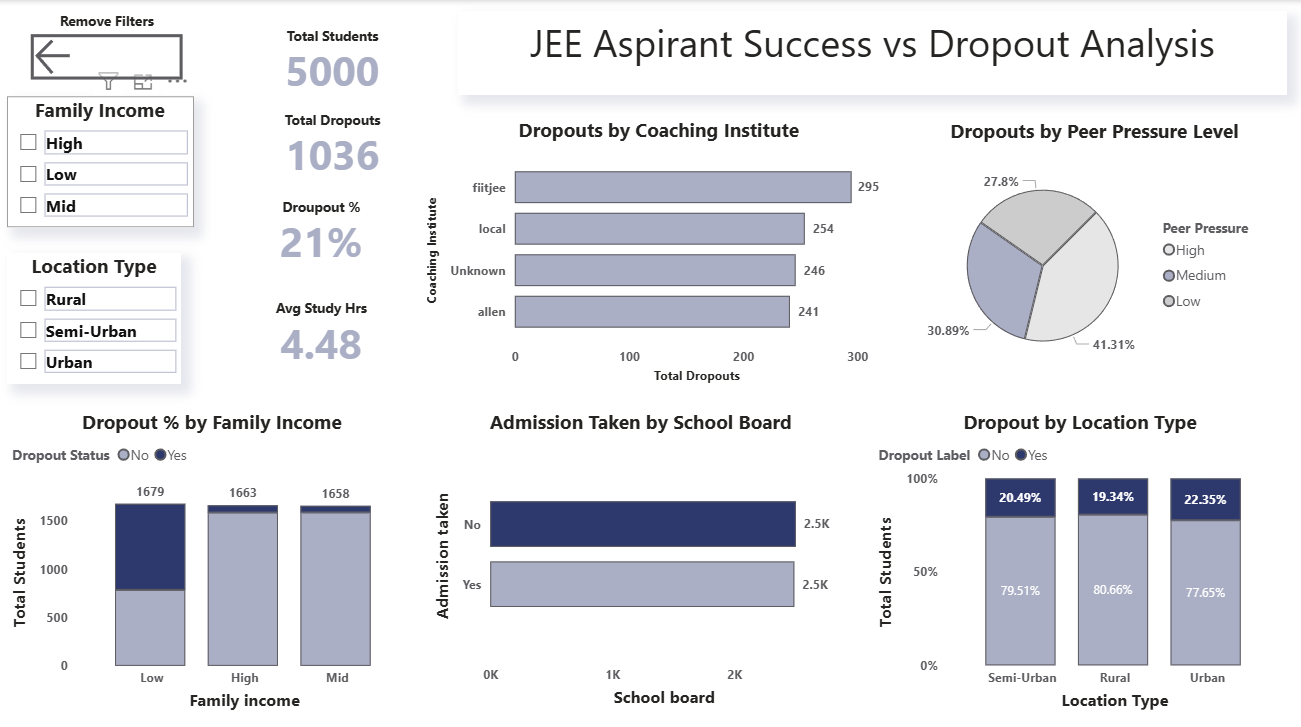

This screenshot's page, from the dashboard's own definition file:
{"tool":"powerbi","page":{"name":"Page 1","canvas":[1280,720],"ordinal":0},"visuals":[{"type":"card","title":"Total Students","fields":{"Values":["Measure.Total Students"]},"box":[241.4,25.7,174.6,67.8],"z":0,"group":"g1"},{"type":"columnChart","title":"Dropout % by Family Income","fields":{"Category":["jee_dropout.family_income"],"Y":["Measure.Total_Students"],"Series":["jee_dropout.Dropout_Label"]},"box":[10.1,399.6,401.1,300.1],"z":0},{"type":"barChart","title":"Dropouts by Coaching Institute","fields":{"Category":["jee_dropout.coaching_institute"],"Y":["Measure.Total Dropouts"]},"box":[415.8,113.7,463.5,266.6],"z":1000},{"type":"card","title":"Droupout %","fields":{"Values":["Measure.Dropout_Percentage"]},"box":[229.9,193.1,174.6,67.8],"z":1000,"group":"g1"},{"type":"card","title":"Total Dropouts","fields":{"Values":["Measure.Total Dropouts"]},"box":[241.4,107.9,174.6,67.8],"z":2000,"group":"g1"},{"type":"pieChart","title":"Dropouts by Peer Pressure Level","fields":{"Category":["jee_dropout.peer_pressure_level"],"Y":["Measure.Total Dropouts"]},"box":[901.2,114.9,344.8,265.4],"z":2000},{"type":"card","title":"Avg Study Hrs","fields":{"Values":["Measure.Avg_Study_Hours"]},"box":[229.9,292.6,174.6,67.8],"z":3000,"group":"g1"},{"type":"barChart","title":"Admission Taken by School Board","fields":{"Y":["CountNonNull(jee_dropout.school_board)"],"Category":["jee_dropout.admission_taken"]},"box":[423.1,399.9,413.3,297.1],"z":3000},{"type":"hundredPercentStackedColumnChart","title":"Dropout by Location Type","fields":{"Category":["jee_dropout.location_type"],"Y":["Measure.Total Students"],"Series":["jee_dropout.Dropout_Label"]},"box":[857.2,399.9,404.8,299.6],"z":4000},{"type":"slicer","title":"Location Type","fields":{"Values":["jee_dropout.location_type"]},"box":[10.1,246.7,170.2,128.4],"z":5000},{"type":"slicer","title":"Family Income","fields":{"Values":["jee_dropout.Family income"]},"box":[10.1,93.8,181.8,128.4],"z":6000},{"type":"actionButton","title":"Remove Filters","box":[32.6,10.9,148.6,67],"z":7000},{"type":"group","id":"g1","title":"Group 1","box":[229.9,25.7,187.1,333.8],"z":8000},{"type":"textbox","box":[451.2,11,810.7,81.9],"z":9000}]}

Visuals, with their boxes in screenshot pixels (x1, y1, x2, y2), scaled from the page's 1280x720 canvas onto the 1301x727 screenshot:
"Total Students" card: locate(245, 26, 423, 94)
"Dropout % by Family Income" columnChart: locate(10, 403, 418, 707)
"Dropouts by Coaching Institute" barChart: locate(423, 115, 894, 384)
"Droupout %" card: locate(234, 195, 411, 263)
"Total Dropouts" card: locate(245, 109, 423, 177)
"Dropouts by Peer Pressure Level" pieChart: locate(916, 116, 1266, 384)
"Avg Study Hrs" card: locate(234, 295, 411, 364)
"Admission Taken by School Board" barChart: locate(430, 404, 850, 704)
"Dropout by Location Type" hundredPercentStackedColumnChart: locate(871, 404, 1283, 706)
"Location Type" slicer: locate(10, 249, 183, 379)
"Family Income" slicer: locate(10, 95, 195, 224)
"Remove Filters" actionButton: locate(33, 11, 184, 79)
"Group 1" group: locate(234, 26, 424, 363)
textbox: locate(459, 11, 1283, 94)
